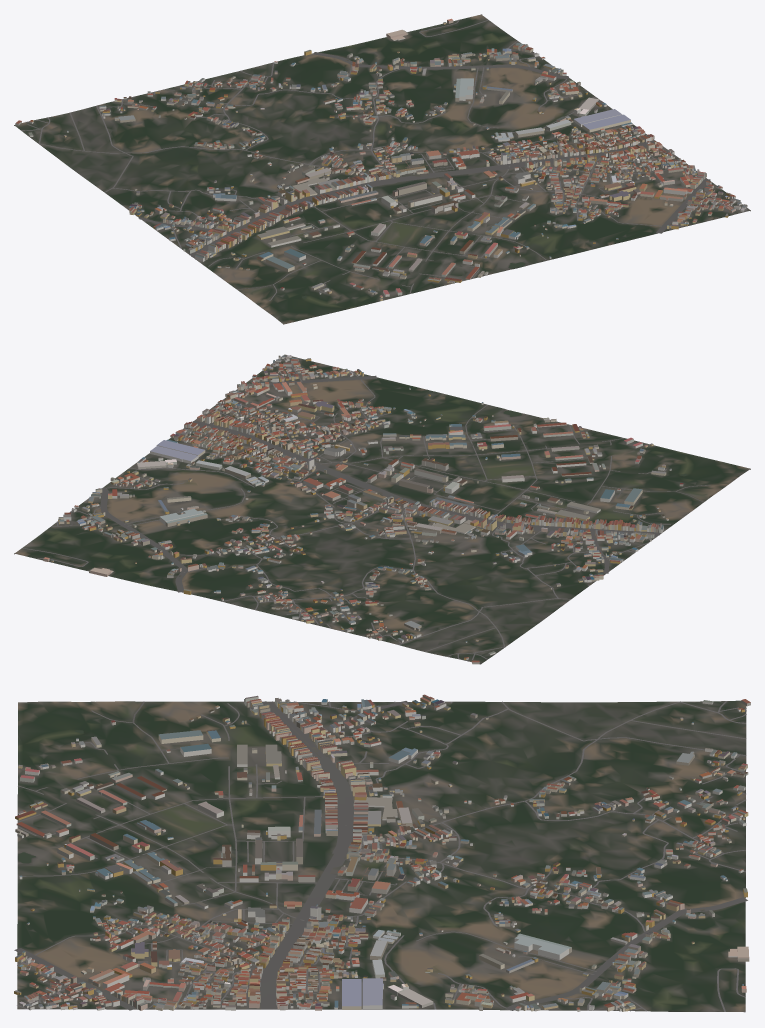
3 views of the same model, one above another, from view 1: azimuth 30°, elevation 25°; view 2: azimuth 150°, elevation 25°; view 3: azimuth 270°, elevation 25° (orthographic). The views are drawn at different scales.
Visible parts, largest first — view 1: ground, buildings, roads; view 2: ground, buildings, roads; view 3: ground, buildings, roads.
Part boxes in pixels (x1,y1,x2,y2): ground: [14, 14, 750, 324]; buildings: [15, 18, 747, 300]; roads: [21, 14, 747, 300]; ground: [14, 354, 750, 664]; buildings: [43, 355, 683, 664]; roads: [14, 356, 710, 661]; ground: [17, 700, 746, 1011]; buildings: [14, 694, 750, 1011]; roads: [14, 701, 747, 1012].
Size of the model in its own units: 1415 by 34.1 by 1419.
